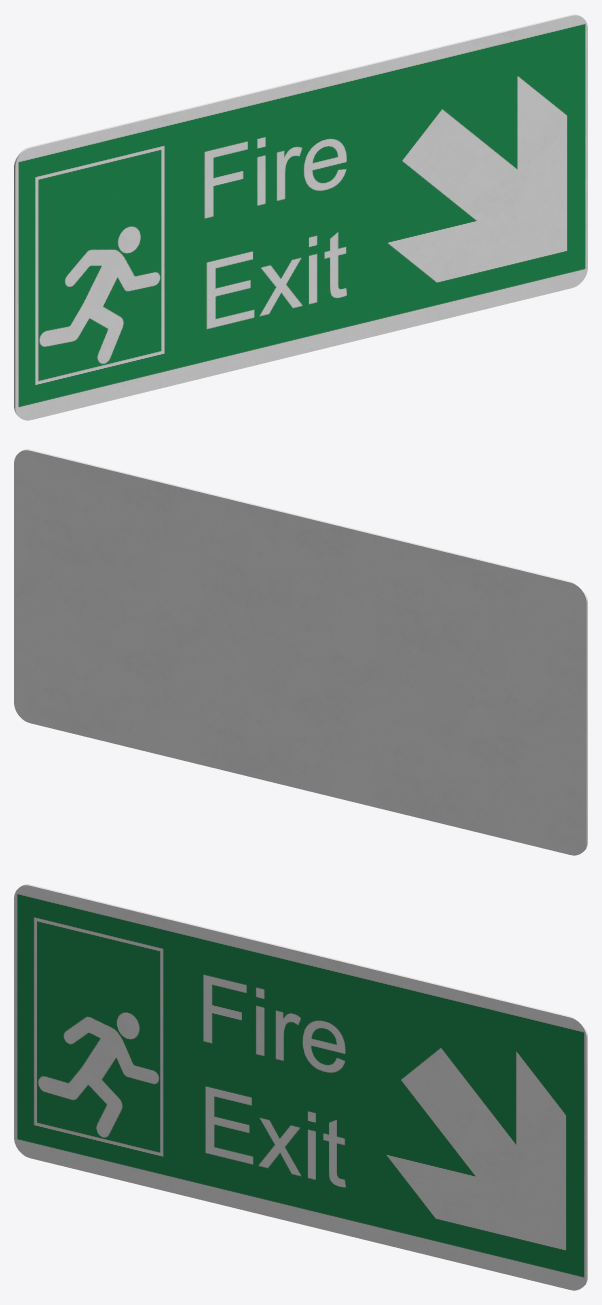
The model's file is ExitSignboard2.fbx.
The picture shows the model from 3 angles, top to bottom: view 1: azimuth 30°, elevation 25°; view 2: azimuth 150°, elevation 25°; view 3: azimuth 330°, elevation 25°; orthographic projection.
Visible parts, largest first — view 1: Sign; view 2: Sign; view 3: Sign.
Boxes of the visible parts, left/top/right/bottom form: Sign: left=14, top=14, right=587, bottom=420; Sign: left=14, top=449, right=587, bottom=855; Sign: left=14, top=884, right=587, bottom=1290.
Size of the model in its own units: 53.6 by 24.37 by 0.1976.
